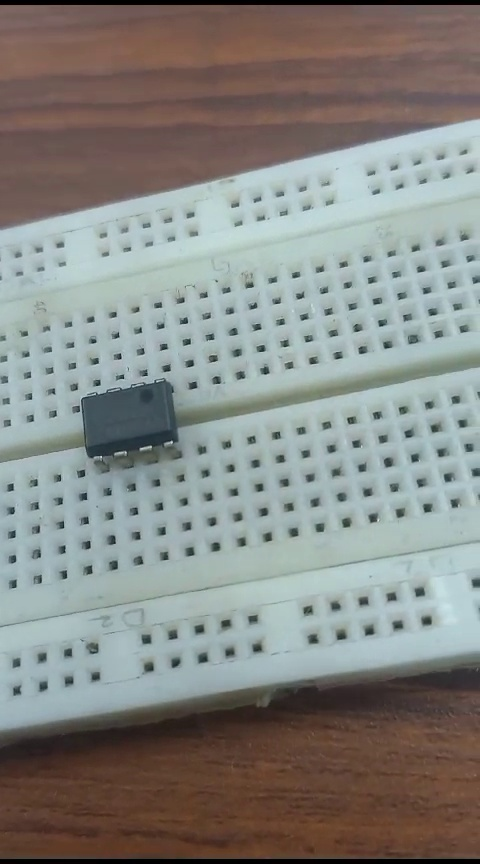IC: (71, 373, 202, 468)
